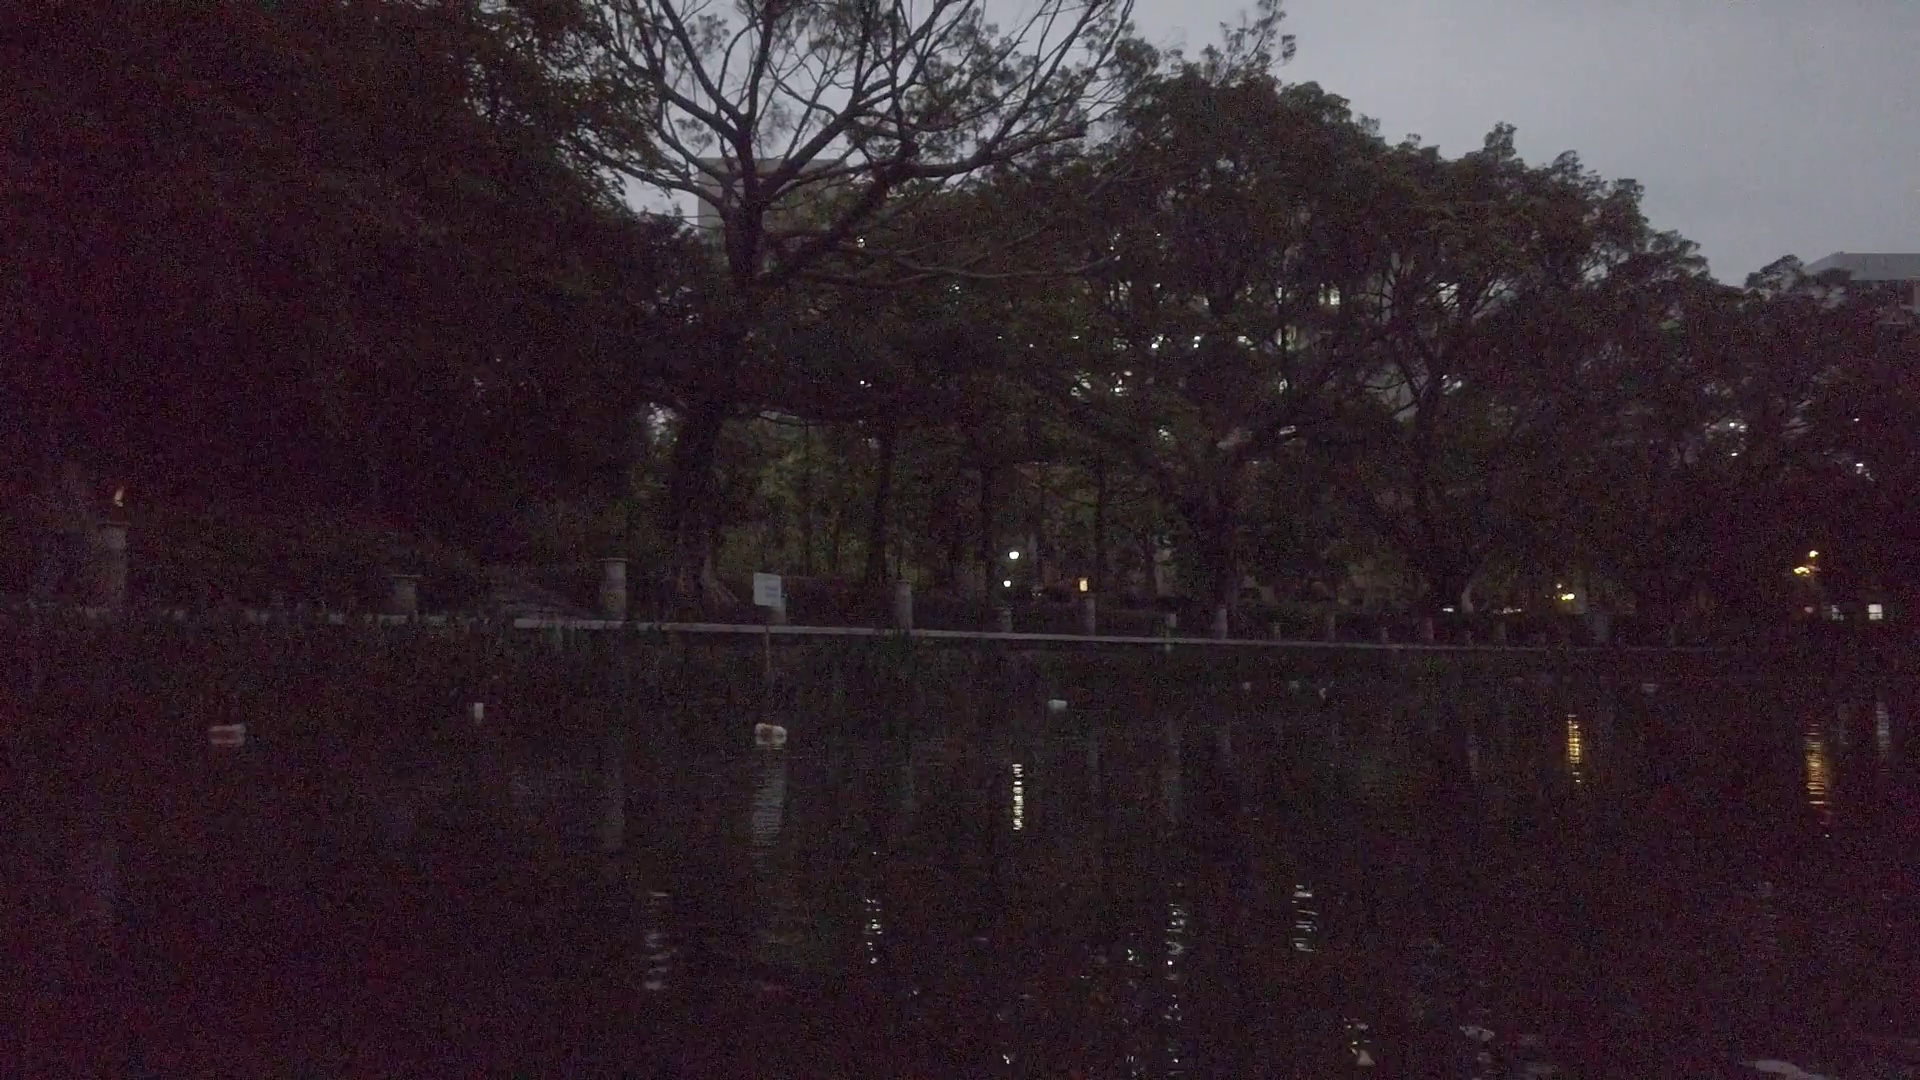bottle: (206, 725, 245, 738), (753, 723, 787, 737)
carton: (1048, 698, 1069, 709), (476, 702, 484, 717)
